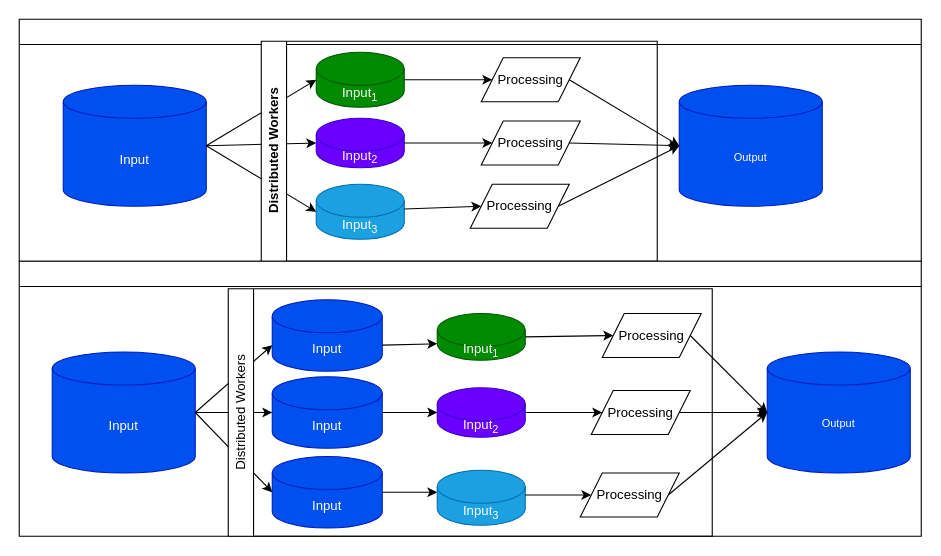
Image size: 941x556. Some labels were removed from this diagram. Here are the shapes that lost their labels. From the top down, the box of each, then its label:
(18, 18, 921, 261): parLapply
(18, 260, 921, 536): foreach on socket cluster
